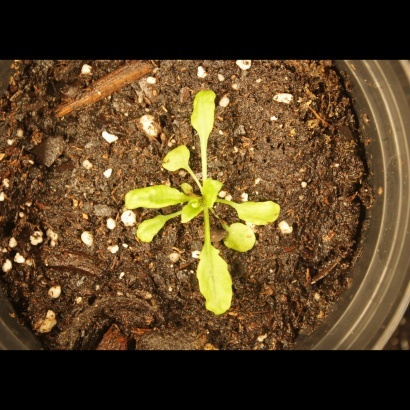leaf: (192, 246, 235, 320), (184, 86, 226, 148), (120, 182, 192, 212), (233, 191, 288, 227), (219, 221, 261, 254), (156, 143, 193, 179), (131, 215, 173, 246), (201, 173, 225, 212), (181, 197, 206, 225)
